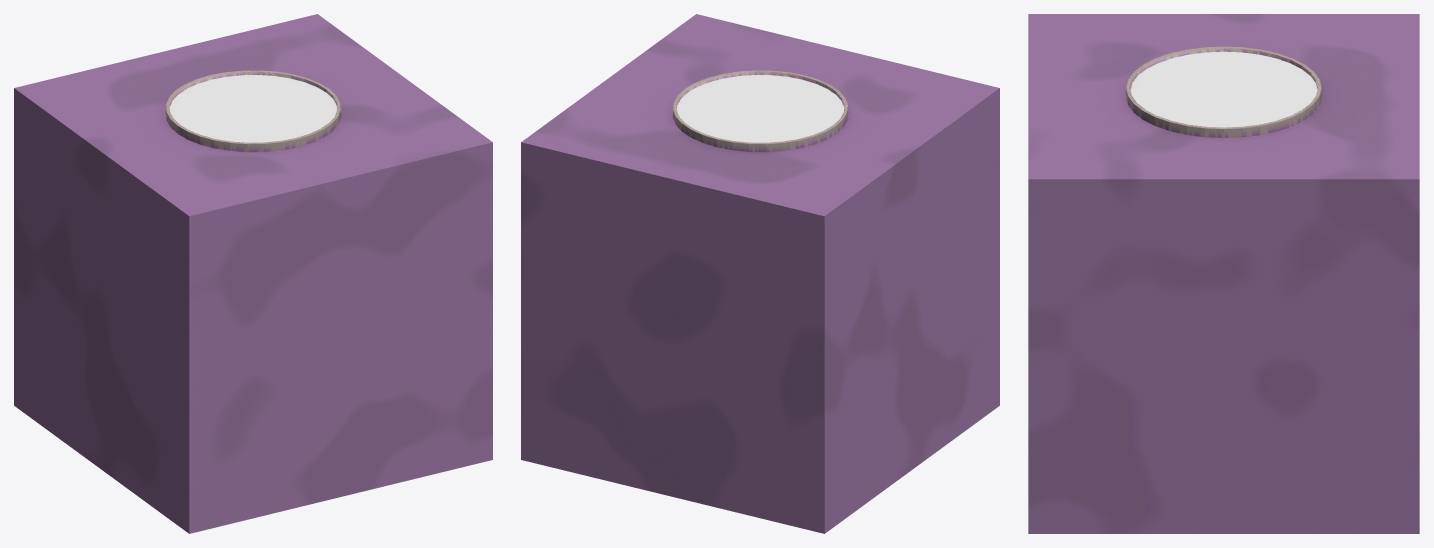
Rendered from nakagin_capsule.glb.
3 views of the same model, side by side, from view 1: azimuth 30°, elevation 25°; view 2: azimuth 150°, elevation 25°; view 3: azimuth 270°, elevation 25° (orthographic). The views are drawn at different scales.
Parts seen in each view (by area): view 1: Nakagin_capsule; view 2: Nakagin_capsule; view 3: Nakagin_capsule.
Part boxes in pixels (x1,y1,x2,y2): Nakagin_capsule: (14, 14, 492, 533); Nakagin_capsule: (521, 14, 999, 533); Nakagin_capsule: (1028, 14, 1419, 533).
Size of the model in its own units: 1 by 1.02 by 1.
1 material, 1 textured.
